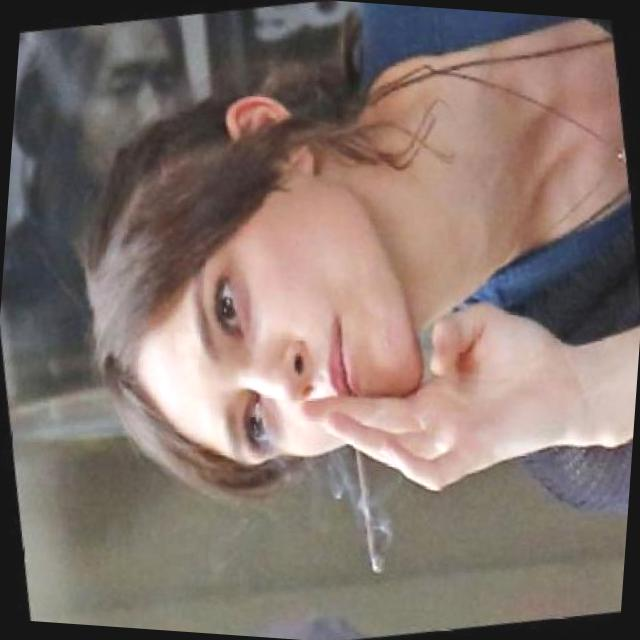smoke: (336, 420, 398, 579)
